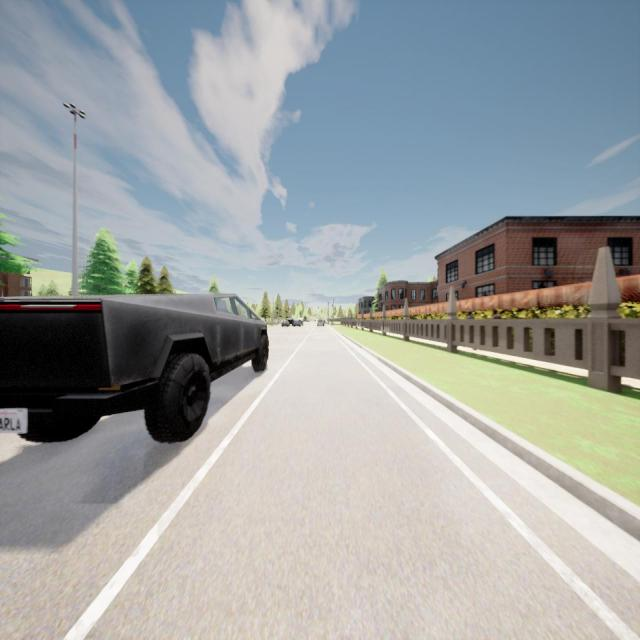Vehicle: (0, 294, 268, 442), (292, 319, 304, 326), (317, 318, 325, 326), (286, 318, 294, 326), (281, 320, 290, 327)
